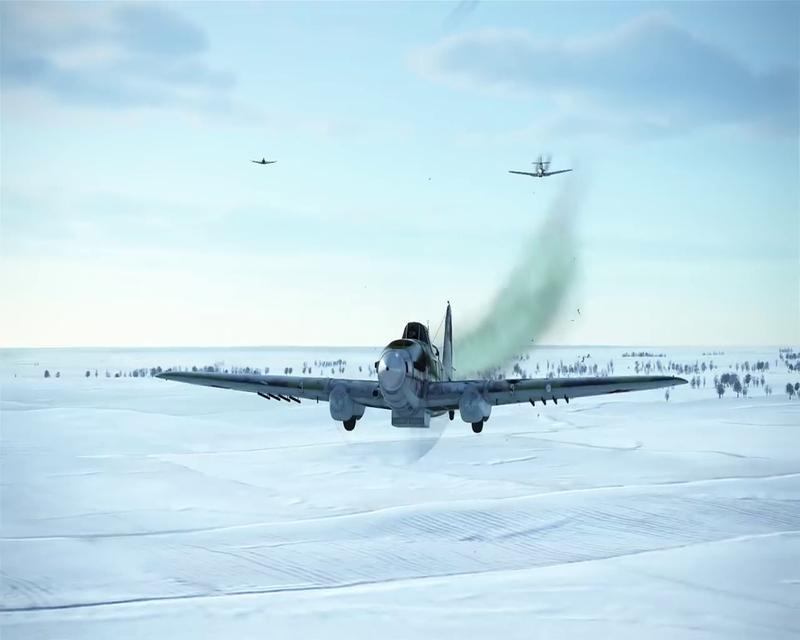UAV: (154, 302, 691, 435), (509, 155, 572, 181)
